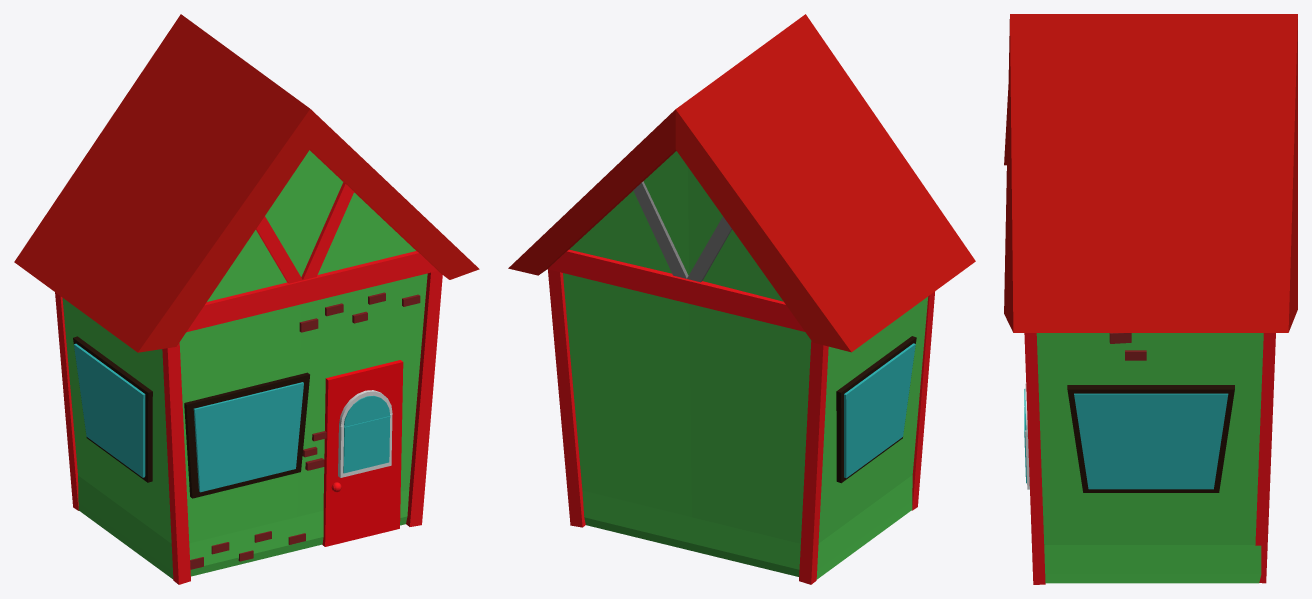
The model's file is casita_verde.obj.
3 renders of one model, left to right at view 1: azimuth 30°, elevation 25°; view 2: azimuth 150°, elevation 25°; view 3: azimuth 270°, elevation 25°, orthographic. The views are drawn at different scales.
Parts seen in each view (by area): view 1: pCube39; view 2: pCube39; view 3: pCube39.
Boxes of the visible parts, <box> form: pCube39: <box>14,14,479,584</box>; pCube39: <box>508,14,975,584</box>; pCube39: <box>1004,14,1297,584</box>.
Size of the model in its own units: 35.03 by 44.42 by 23.44.
